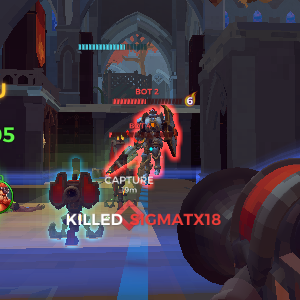model: (130, 107, 172, 180)
